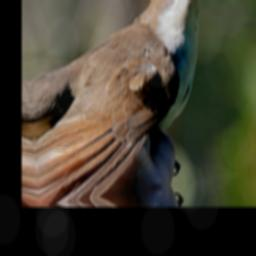Cuckoo: (22, 0, 233, 206)
